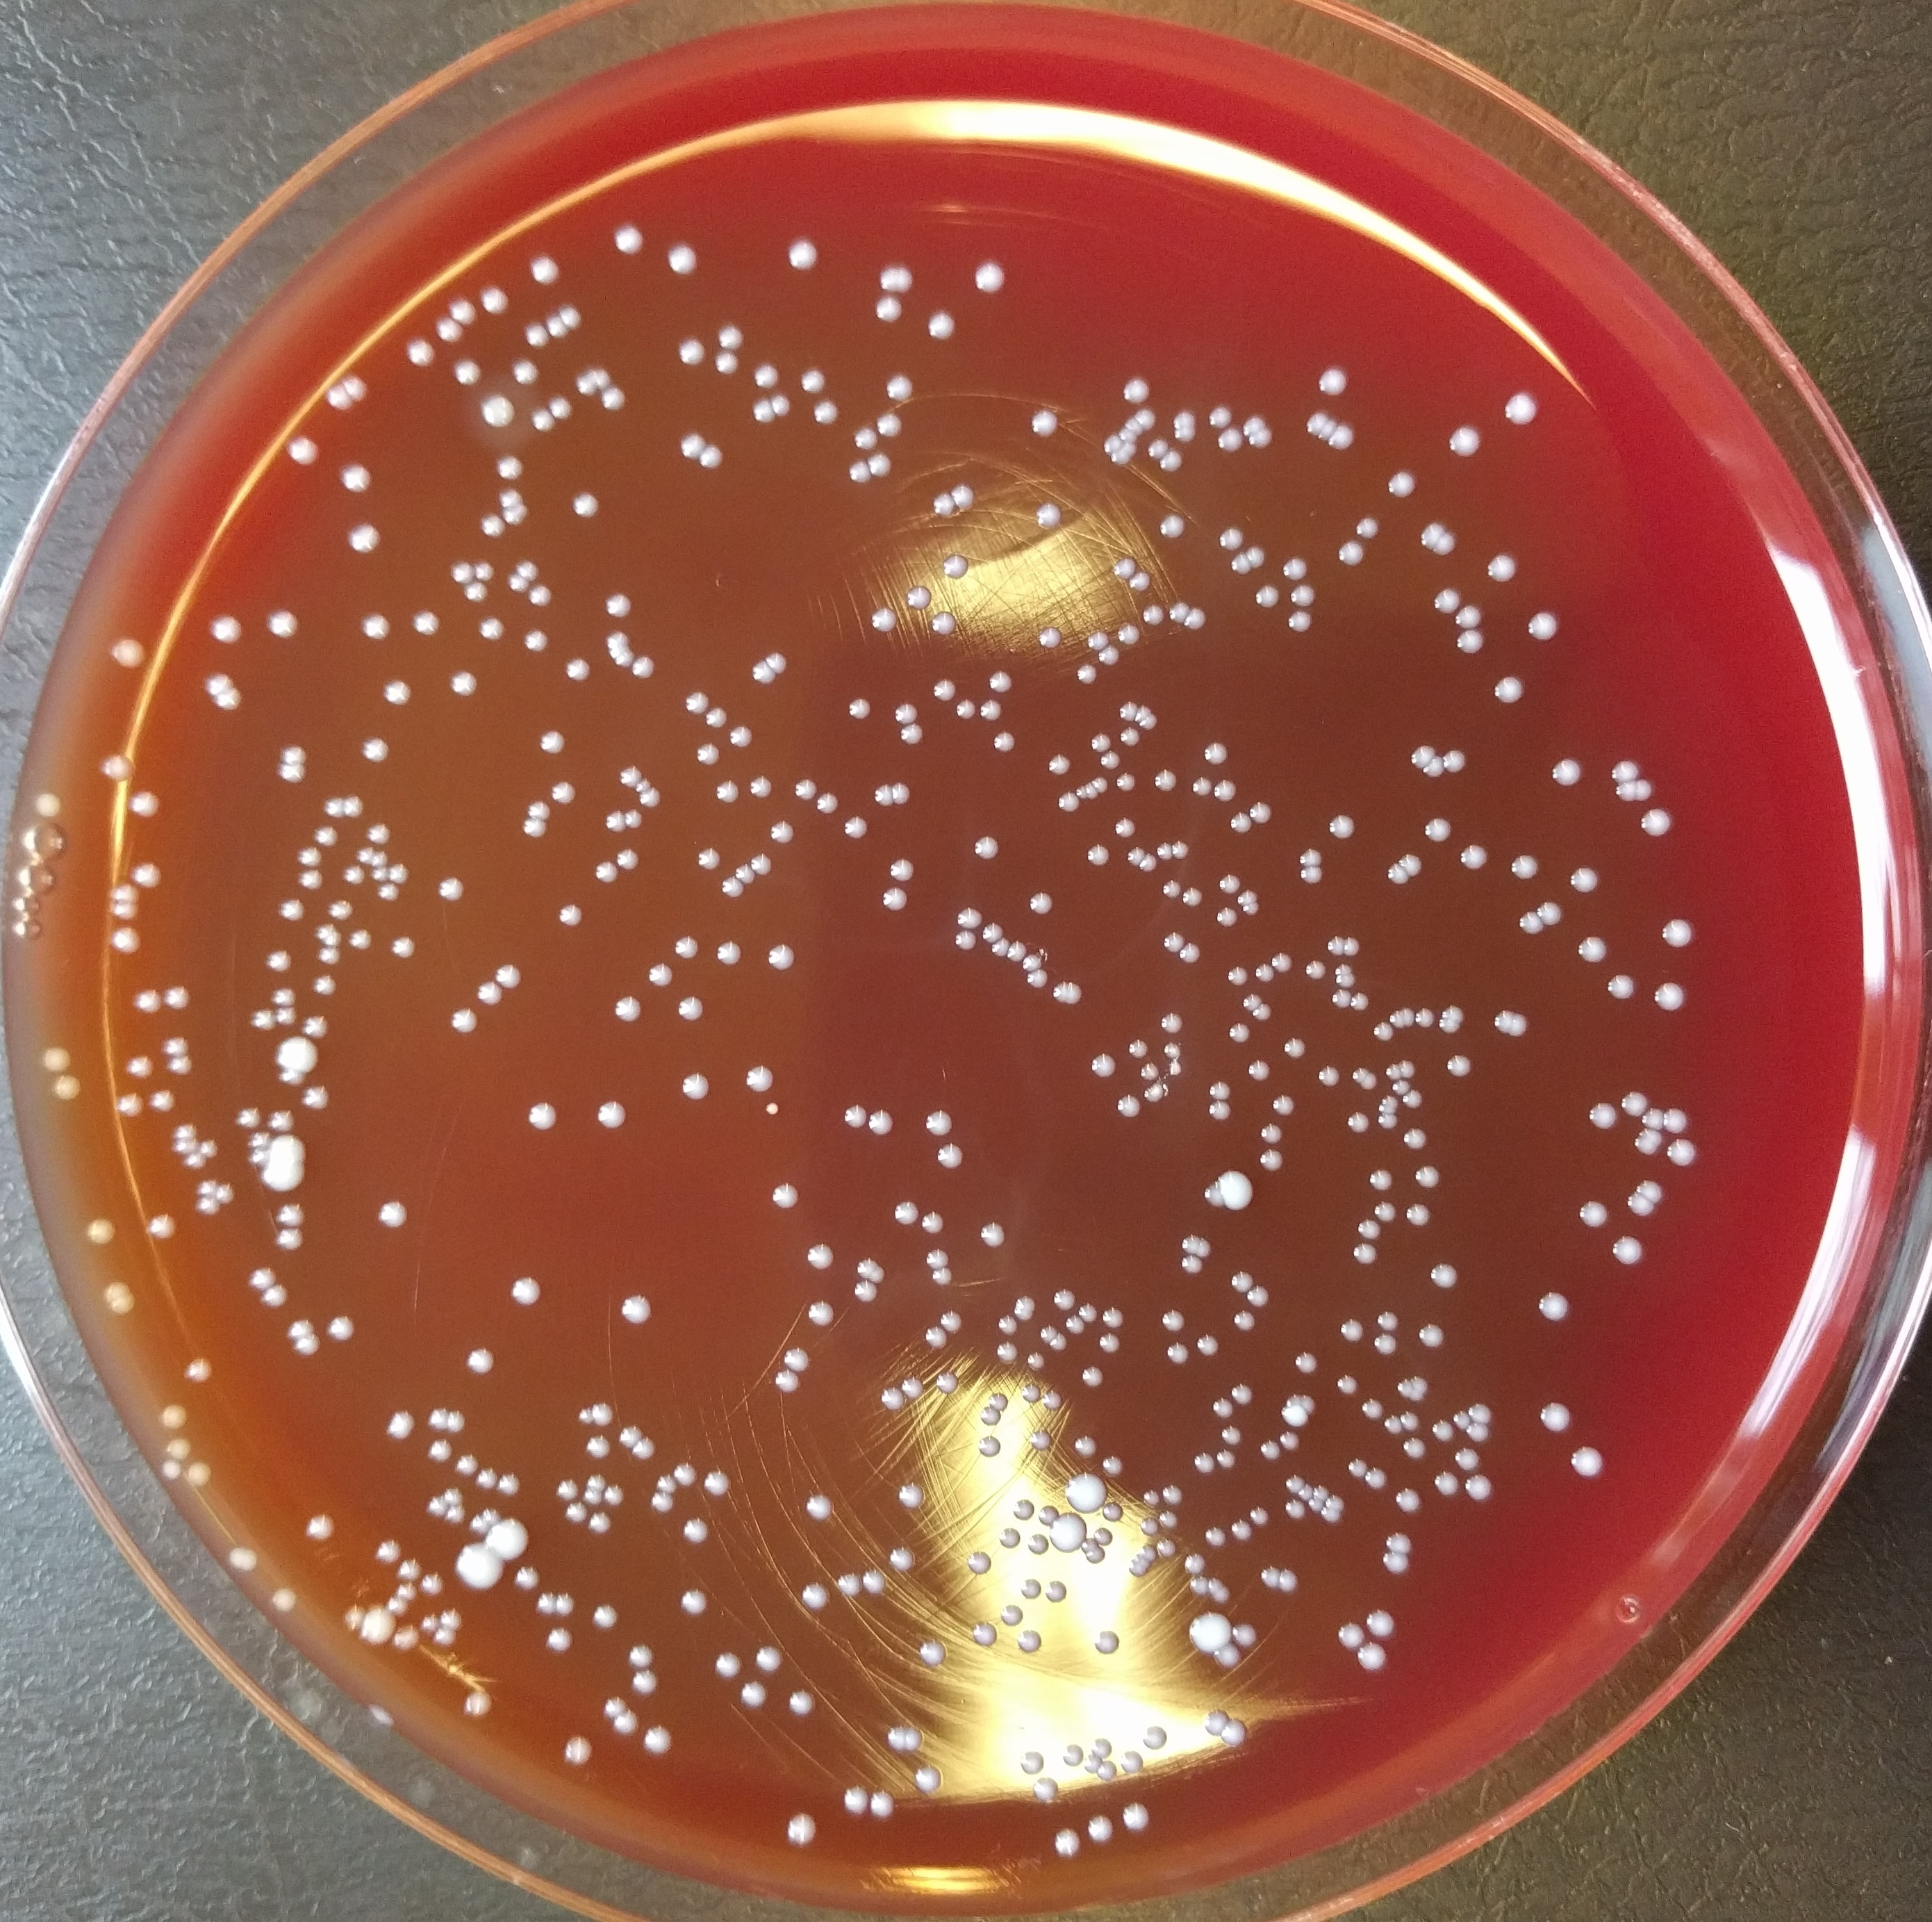sp23: (971, 252, 1022, 308), (449, 1542, 503, 1591), (1182, 1607, 1233, 1651), (873, 255, 927, 296), (1564, 1440, 1610, 1486), (271, 1037, 327, 1072), (255, 1160, 308, 1197), (389, 933, 429, 979), (1063, 1471, 1103, 1515), (487, 1515, 528, 1559), (1446, 421, 1487, 465), (359, 1605, 399, 1649), (1049, 1515, 1091, 1556), (607, 220, 649, 260), (524, 252, 568, 290), (505, 1274, 553, 1309), (1536, 1396, 1575, 1438), (779, 1806, 818, 1848), (1499, 392, 1543, 429), (95, 750, 139, 787), (1028, 403, 1068, 442), (1522, 607, 1562, 646), (1492, 669, 1531, 709), (1658, 912, 1698, 950), (880, 371, 922, 408), (1114, 370, 1156, 407), (1216, 1167, 1251, 1211), (783, 231, 822, 269), (1457, 838, 1496, 877), (540, 1621, 579, 1660), (801, 1489, 839, 1528), (456, 1686, 498, 1721), (109, 635, 151, 671), (121, 789, 165, 822), (1029, 495, 1066, 533), (1533, 1287, 1571, 1324), (750, 1644, 788, 1681), (618, 1292, 656, 1329), (443, 667, 482, 704), (1649, 977, 1689, 1012), (593, 1097, 633, 1132), (262, 607, 303, 642), (204, 613, 245, 648), (477, 392, 517, 428), (1314, 366, 1357, 400), (732, 1681, 774, 1714), (282, 435, 324, 468), (1482, 549, 1519, 586), (336, 461, 373, 498), (1552, 755, 1591, 790), (926, 306, 961, 343), (663, 239, 700, 275), (674, 333, 709, 370), (873, 407, 908, 444), (866, 600, 901, 637), (1636, 803, 1672, 840), (1575, 931, 1610, 968), (303, 1508, 338, 1545), (741, 1061, 778, 1097), (567, 488, 602, 525), (401, 336, 436, 373), (743, 660, 781, 693), (1423, 1260, 1462, 1294), (1587, 1095, 1621, 1133), (910, 1762, 948, 1795), (674, 1586, 713, 1619), (408, 607, 447, 641), (373, 1199, 413, 1230), (869, 289, 904, 324), (1443, 1049, 1478, 1084), (561, 1734, 596, 1769), (1348, 510, 1385, 544), (1323, 808, 1360, 841), (1418, 811, 1455, 845), (1506, 848, 1540, 885), (1575, 1199, 1612, 1232), (707, 1649, 744, 1683), (588, 1602, 625, 1635), (679, 1514, 713, 1551), (894, 1478, 931, 1512), (322, 1313, 359, 1346), (130, 987, 167, 1021), (713, 319, 751, 350), (695, 444, 734, 475), (1336, 539, 1374, 570), (109, 1089, 148, 1121), (377, 678, 415, 709), (447, 357, 486, 389), (222, 1542, 262, 1572), (267, 1133, 310, 1162), (1452, 625, 1487, 658), (885, 852, 920, 885), (878, 882, 911, 917), (1566, 861, 1601, 894), (1615, 1082, 1649, 1118), (1332, 1621, 1367, 1654), (801, 1579, 836, 1612), (389, 1621, 424, 1654), (804, 1295, 838, 1331), (934, 1141, 968, 1176), (505, 354, 538, 389), (901, 581, 938, 613), (1402, 743, 1439, 774), (1665, 1133, 1701, 1165), (1353, 1635, 1385, 1672), (640, 1721, 672, 1758), (49, 1074, 86, 1105), (357, 611, 394, 642), (318, 382, 355, 414), (371, 1538, 410, 1568), (345, 523, 384, 553), (947, 480, 980, 514), (1397, 1434, 1431, 1468), (787, 1686, 820, 1720), (382, 1406, 415, 1440), (588, 1397, 621, 1431), (674, 993, 707, 1026), (435, 875, 468, 908), (477, 283, 510, 317), (595, 382, 628, 415), (1633, 1125, 1665, 1160), (582, 1507, 614, 1542), (713, 938, 748, 970), (357, 734, 392, 766), (602, 590, 637, 621), (431, 315, 466, 347), (809, 392, 839, 429), (1381, 468, 1418, 498), (1212, 773, 1242, 810), (1462, 1468, 1492, 1505), (461, 1346, 498, 1376), (642, 961, 679, 991), (84, 1218, 121, 1248), (443, 554, 480, 584), (491, 454, 528, 484), (271, 1200, 310, 1229), (1198, 737, 1232, 769), (709, 774, 741, 808), (1603, 970, 1636, 1001), (1658, 1104, 1691, 1135), (1622, 1188, 1654, 1221), (1277, 1403, 1311, 1434), (1364, 1607, 1397, 1639), (1119, 1801, 1153, 1832), (866, 1786, 897, 1820), (269, 1584, 303, 1616), (802, 1239, 836, 1271), (772, 1366, 806, 1397), (257, 1280, 290, 1311), (299, 1081, 333, 1112), (519, 625, 553, 657), (560, 655, 593, 686), (1612, 1232, 1642, 1267), (1228, 1619, 1263, 1649), (841, 1783, 871, 1818), (779, 1345, 815, 1375), (866, 1107, 896, 1142), (677, 1072, 713, 1102), (183, 1355, 218, 1385), (128, 861, 164, 891), (274, 898, 310, 928), (473, 614, 509, 644), (523, 407, 558, 436), (1415, 516, 1443, 553), (106, 924, 143, 952), (209, 685, 246, 713), (443, 299, 480, 327), (1431, 584, 1462, 616), (1156, 510, 1188, 542), (723, 722, 755, 753), (1394, 1484, 1425, 1515), (556, 299, 588, 331), (1327, 422, 1360, 452), (938, 551, 971, 581), (1608, 753, 1642, 783), (1633, 1176, 1666, 1206), (1116, 1086, 1145, 1119), (1219, 1716, 1249, 1750), (1050, 1825, 1080, 1859), (628, 1640, 662, 1670), (630, 1669, 663, 1698), (922, 1107, 955, 1137), (158, 1401, 192, 1431), (123, 1053, 157, 1082), (297, 1012, 331, 1042), (310, 970, 343, 1000), (1277, 554, 1313, 583), (838, 811, 873, 840), (1413, 1324, 1448, 1352), (848, 1278, 883, 1306), (524, 1102, 560, 1130), (952, 903, 987, 931), (894, 720, 931, 746), (39, 1045, 76, 1072), (750, 363, 781, 392), (677, 429, 709, 459), (929, 609, 959, 641), (843, 692, 873, 723), (1372, 1308, 1404, 1338), (1371, 1331, 1402, 1361), (1158, 1306, 1188, 1338), (1226, 1378, 1258, 1408), (1100, 1304, 1131, 1334), (1084, 1811, 1114, 1843), (977, 1216, 1006, 1248), (146, 1211, 178, 1241), (33, 790, 63, 822), (340, 370, 371, 400), (1216, 422, 1244, 456), (799, 364, 832, 392), (845, 459, 878, 488), (1450, 602, 1483, 630), (611, 994, 644, 1023), (245, 1265, 278, 1294), (273, 1225, 306, 1253), (266, 1107, 299, 1135), (294, 866, 327, 894), (306, 822, 340, 850), (524, 583, 558, 611), (461, 574, 489, 607), (517, 320, 551, 348), (890, 701, 926, 727), (1015, 1748, 1050, 1774), (669, 935, 704, 961), (545, 780, 581, 806), (181, 1459, 216, 1486), (282, 1315, 317, 1341), (290, 1332, 326, 1359), (266, 984, 301, 1010), (498, 502, 533, 528), (574, 366, 600, 401), (1284, 607, 1314, 637), (931, 676, 961, 706), (1042, 750, 1072, 780), (1248, 797, 1277, 827), (720, 871, 750, 901), (1517, 906, 1547, 936), (1344, 1109, 1374, 1139), (1413, 1162, 1443, 1192), (1350, 1237, 1379, 1267), (1256, 1144, 1286, 1174), (917, 1637, 947, 1667), (450, 1450, 480, 1480), (700, 1468, 730, 1498), (920, 1322, 950, 1352), (765, 940, 795, 970), (537, 727, 567, 757), (385, 861, 415, 891), (340, 859, 370, 889), (545, 392, 575, 422), (744, 398, 776, 426), (1107, 811, 1138, 840), (1151, 766, 1179, 797), (693, 843, 725, 871), (1395, 848, 1423, 880), (1212, 901, 1240, 933), (1381, 1547, 1413, 1575), (1225, 1267, 1256, 1295), (1207, 1642, 1239, 1670), (964, 1549, 996, 1577), (669, 1461, 700, 1489), (878, 1385, 910, 1413), (927, 1262, 959, 1290), (554, 901, 586, 929), (345, 926, 377, 954), (362, 820, 394, 848), (107, 882, 146, 905), (273, 760, 311, 783), (1116, 1750, 1149, 1776), (509, 1561, 542, 1588), (922, 1246, 955, 1273), (165, 1436, 199, 1463), (276, 1067, 310, 1093), (260, 947, 294, 973), (445, 1007, 479, 1033), (473, 977, 498, 1012), (1028, 889, 1063, 913), (243, 1128, 278, 1153), (199, 672, 234, 697), (713, 348, 743, 377), (765, 391, 794, 421), (850, 424, 880, 452), (1114, 621, 1142, 651), (1036, 625, 1066, 653), (1225, 808, 1255, 836), (971, 831, 1001, 859), (1404, 1199, 1434, 1227), (1223, 1019, 1253, 1047), (1175, 1250, 1205, 1278), (1464, 1397, 1494, 1426), (1357, 1394, 1385, 1424), (1274, 1427, 1304, 1456), (1096, 1450, 1126, 1478), (1024, 1424, 1054, 1452), (600, 1691, 630, 1720), (531, 1589, 560, 1619), (472, 1464, 501, 1493), (598, 1480, 628, 1508), (649, 1489, 677, 1519), (933, 1369, 962, 1397), (892, 1199, 922, 1227), (839, 1100, 867, 1130), (591, 859, 621, 887), (250, 1003, 278, 1033), (327, 894, 357, 922), (588, 364, 618, 392), (1313, 415, 1339, 447), (1179, 605, 1211, 632), (977, 693, 1003, 725), (1082, 841, 1114, 868), (1364, 1165, 1395, 1192), (1028, 1774, 1059, 1801), (968, 1621, 999, 1647), (834, 1572, 866, 1598), (609, 1711, 640, 1737), (415, 1570, 447, 1596), (493, 963, 524, 989), (477, 512, 509, 539), (1082, 628, 1116, 653), (389, 1556, 422, 1581), (158, 986, 192, 1010), (274, 739, 308, 764), (1158, 447, 1186, 475), (1290, 581, 1318, 609), (750, 850, 778, 878), (1216, 869, 1244, 898), (1441, 746, 1469, 774), (1311, 1061, 1339, 1089), (1279, 1033, 1307, 1061), (1427, 1417, 1455, 1445), (996, 1600, 1024, 1628), (433, 1623, 461, 1651), (554, 1475, 582, 1503), (1089, 1051, 1117, 1079), (866, 451, 892, 480), (931, 489, 957, 519), (1299, 862, 1328, 889), (811, 790, 841, 817), (1179, 885, 1209, 912), (1156, 928, 1186, 954), (1265, 947, 1292, 977), (1636, 1102, 1663, 1132), (1156, 1007, 1182, 1037), (1383, 1528, 1413, 1554), (1008, 1496, 1038, 1522), (1142, 1723, 1168, 1753), (1014, 1628, 1043, 1654), (343, 1605, 370, 1635), (561, 1500, 591, 1526), (581, 1434, 611, 1461), (628, 1433, 658, 1459), (899, 1373, 929, 1399), (192, 1176, 222, 1202), (294, 843, 324, 869), (340, 792, 366, 822), (542, 312, 572, 338), (1401, 1119, 1425, 1151), (975, 1434, 1006, 1459), (889, 1545, 920, 1570), (424, 1438, 456, 1463), (523, 799, 554, 824), (146, 1088, 178, 1112), (162, 1053, 194, 1077), (317, 794, 348, 818), (1133, 403, 1160, 431), (1144, 435, 1170, 463), (1205, 403, 1232, 431), (1302, 408, 1328, 436), (954, 695, 980, 723), (704, 704, 732, 730), (746, 773, 774, 799), (1612, 776, 1638, 804), (1383, 861, 1409, 889), (1223, 961, 1251, 987), (1487, 1007, 1513, 1035), (1436, 1014, 1464, 1040), (1244, 1054, 1270, 1082), (1174, 1230, 1202, 1257), (1209, 1394, 1235, 1422), (1050, 1287, 1079, 1313), (977, 1403, 1005, 1429), (1042, 1581, 1070, 1607), (1200, 1707, 1228, 1734), (616, 1420, 644, 1447), (771, 1181, 799, 1207), (612, 845, 640, 871), (158, 1456, 187, 1482), (630, 655, 658, 681), (514, 556, 542, 583), (1432, 532, 1457, 561), (984, 667, 1014, 692), (992, 727, 1017, 757), (1112, 767, 1137, 797), (1135, 852, 1165, 877), (695, 739, 720, 769), (1413, 1003, 1438, 1033), (1353, 1216, 1383, 1241), (1270, 1089, 1295, 1119), (1205, 1095, 1235, 1119), (1450, 1445, 1480, 1470), (1195, 1332, 1225, 1357), (1163, 1341, 1193, 1366), (1364, 1463, 1388, 1493), (1070, 1434, 1100, 1459), (442, 1406, 466, 1436), (918, 1211, 948, 1236), (637, 787, 667, 811), (102, 1278, 132, 1302), (181, 1149, 211, 1174), (1172, 426, 1204, 449), (1293, 847, 1325, 869), (1325, 931, 1348, 963), (493, 488, 526, 509), (1128, 570, 1154, 597), (1073, 662, 1100, 688), (765, 648, 792, 674), (1114, 697, 1140, 723), (1536, 899, 1562, 926), (1175, 942, 1202, 968), (1160, 1037, 1186, 1063), (1466, 1419, 1492, 1445), (1212, 1443, 1239, 1470), (1022, 1348, 1049, 1375), (1093, 1757, 1119, 1783), (938, 1308, 964, 1334), (1248, 428, 1272, 456), (1219, 526, 1248, 551), (1140, 600, 1165, 628), (1094, 644, 1123, 669), (1057, 787, 1082, 815), (1167, 836, 1195, 861), (1124, 843, 1153, 868), (765, 820, 794, 845), (1332, 1371, 1360, 1396), (1244, 1285, 1272, 1309), (1219, 1422, 1248, 1447), (1258, 1563, 1283, 1591), (1079, 1364, 1107, 1389), (1015, 1575, 1043, 1600), (1096, 1628, 1124, 1653), (860, 1568, 889, 1593), (554, 1588, 579, 1616), (1631, 774, 1654, 804), (1205, 1079, 1235, 1102), (1200, 1179, 1223, 1209), (1431, 1470, 1460, 1493), (1399, 1406, 1422, 1436), (1093, 1332, 1123, 1355), (616, 766, 646, 789), (519, 817, 549, 840), (109, 1294, 139, 1317), (236, 1107, 266, 1130), (169, 1133, 199, 1156), (373, 882, 403, 905), (158, 1037, 190, 1058), (1228, 551, 1253, 577), (686, 690, 711, 716), (730, 859, 757, 884), (1422, 755, 1446, 781), (1325, 984, 1350, 1010), (1372, 1199, 1397, 1225), (1260, 1119, 1284, 1146), (1142, 1077, 1167, 1104), (1124, 1035, 1149, 1061), (1160, 1482, 1186, 1507), (1181, 1549, 1207, 1574), (992, 1338, 1017, 1364), (1059, 1741, 1084, 1767), (903, 1723, 927, 1750), (438, 1607, 465, 1632), (442, 1501, 468, 1526), (496, 1470, 521, 1496), (197, 1133, 222, 1160), (505, 570, 531, 595), (1239, 410, 1262, 438), (1248, 1001, 1276, 1024), (1388, 1072, 1411, 1100), (1337, 1318, 1365, 1341), (1293, 1350, 1321, 1373), (1226, 1519, 1255, 1542), (994, 1526, 1022, 1549), (194, 1195, 222, 1218), (269, 1003, 297, 1026), (600, 811, 630, 833), (1112, 554, 1137, 579), (1255, 583, 1279, 607), (1087, 729, 1112, 753), (1251, 959, 1276, 984), (1395, 1005, 1420, 1030), (1401, 1084, 1425, 1109), (1202, 1526, 1226, 1551), (424, 1406, 449, 1431), (1100, 750, 1126, 773), (1302, 957, 1325, 984), (1022, 1533, 1049, 1556), (1091, 1734, 1114, 1760), (1080, 1748, 1103, 1774), (651, 1470, 677, 1493), (1024, 968, 1050, 991), (1019, 950, 1045, 973), (1003, 940, 1029, 963), (980, 921, 1006, 943), (1161, 875, 1182, 903), (1283, 1475, 1311, 1496), (952, 929, 980, 950), (216, 1181, 238, 1209), (171, 1119, 199, 1141), (315, 945, 343, 966), (604, 627, 632, 648), (468, 560, 496, 581), (1119, 435, 1138, 465), (1098, 431, 1121, 456), (1244, 546, 1269, 569), (1167, 600, 1189, 625), (1189, 774, 1214, 797), (1154, 841, 1179, 864), (1348, 989, 1371, 1014), (1441, 1001, 1466, 1024), (1358, 1070, 1381, 1095), (1191, 1450, 1216, 1473), (1276, 1568, 1299, 1593), (1140, 1487, 1163, 1512), (1101, 1500, 1124, 1524), (1077, 1301, 1100, 1325), (1035, 1503, 1059, 1526), (422, 1496, 447, 1519), (581, 1486, 604, 1510), (853, 1253, 876, 1278), (866, 1262, 889, 1287), (762, 1097, 787, 1119), (354, 843, 377, 868), (1121, 415, 1147, 436), (892, 780, 913, 806), (875, 783, 896, 810), (792, 778, 818, 799), (889, 1727, 910, 1753), (581, 1471, 607, 1493), (621, 806, 642, 833), (1332, 972, 1360, 991), (1510, 1010, 1529, 1038), (1068, 979, 1087, 1007), (109, 899, 137, 919), (1395, 1054, 1418, 1077), (1381, 1415, 1404, 1438), (1344, 1456, 1367, 1478), (1283, 1498, 1306, 1521), (1156, 1507, 1179, 1530), (1154, 1537, 1177, 1559), (1061, 1315, 1084, 1338), (994, 1311, 1017, 1334), (1042, 1389, 1065, 1412), (370, 848, 392, 871), (614, 648, 637, 671), (1140, 709, 1161, 734), (1376, 1111, 1401, 1132), (1232, 1308, 1256, 1329), (1248, 1505, 1272, 1526), (1188, 1572, 1209, 1596), (387, 1595, 412, 1616), (468, 1510, 489, 1535), (1050, 979, 1072, 1003), (630, 774, 655, 796), (607, 641, 632, 662), (1395, 1375, 1415, 1401), (1119, 727, 1142, 748), (1374, 1017, 1395, 1040), (1450, 1408, 1473, 1429), (1306, 1496, 1328, 1517), (1138, 1515, 1161, 1537), (1021, 1380, 1042, 1403), (1084, 1544, 1107, 1565), (370, 864, 392, 885), (1233, 885, 1258, 905), (1343, 933, 1362, 957), (1383, 1060, 1402, 1084), (1299, 1392, 1318, 1417), (1260, 1438, 1279, 1463), (1135, 1545, 1160, 1565), (394, 1581, 419, 1600), (320, 931, 345, 950), (310, 924, 340, 940), (1137, 1060, 1158, 1081), (1311, 1482, 1332, 1503), (1035, 1322, 1056, 1343), (1174, 408, 1193, 431), (1133, 701, 1153, 723), (1374, 1100, 1397, 1119), (1195, 1236, 1214, 1258), (1408, 1369, 1427, 1392), (1047, 1331, 1066, 1353), (987, 1392, 1010, 1412), (442, 1486, 465, 1505), (1116, 421, 1133, 445), (248, 1149, 273, 1167), (1010, 1294, 1036, 1309), (1091, 774, 1110, 796), (1240, 991, 1262, 1010), (1387, 1009, 1408, 1028), (1165, 1056, 1186, 1075), (1321, 1505, 1341, 1526), (1297, 1484, 1318, 1503), (1211, 1586, 1232, 1605), (1128, 1554, 1149, 1574), (422, 1614, 443, 1633), (1109, 449, 1131, 466), (1082, 780, 1100, 803), (1242, 899, 1262, 919), (482, 1507, 501, 1526), (1072, 781, 1089, 803), (1336, 959, 1357, 977), (1348, 1065, 1369, 1082), (1014, 1304, 1035, 1322), (989, 938, 1010, 956), (575, 1405, 593, 1424), (1093, 1528, 1114, 1544), (1408, 1385, 1425, 1403), (1281, 1390, 1299, 1408), (1204, 1575, 1221, 1593), (1323, 1493, 1343, 1508), (1077, 1535, 1098, 1549), (1381, 1095, 1401, 1109)
